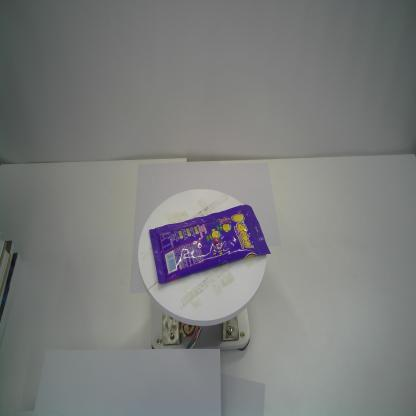Candy: (148, 204, 271, 284)
